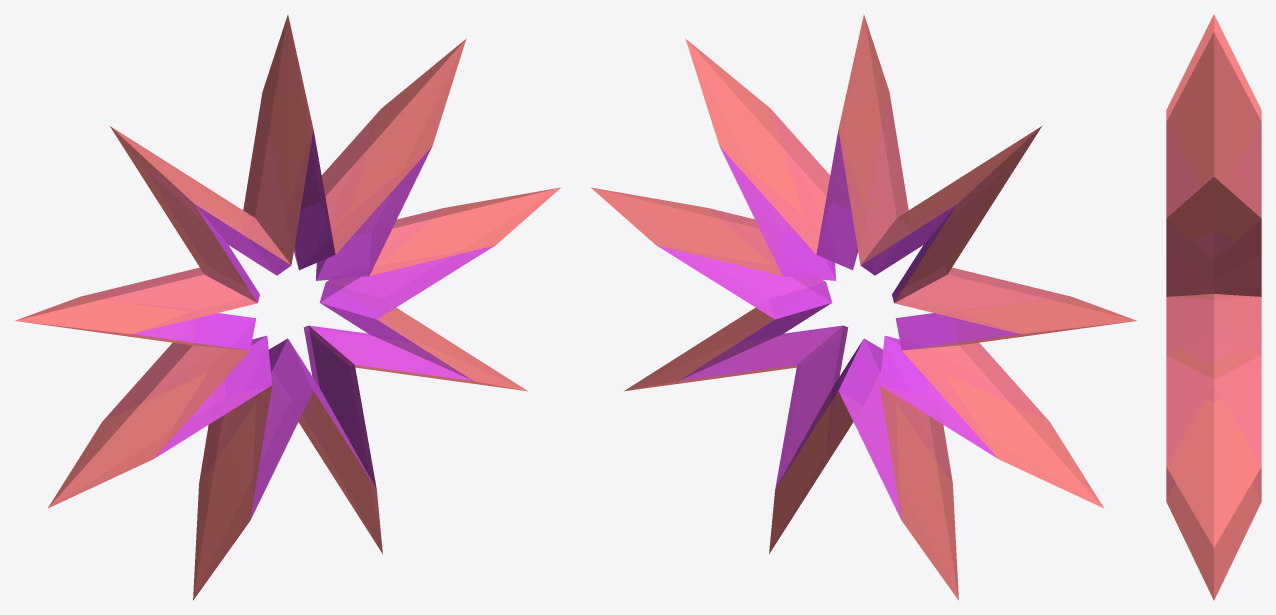
File: Regular9TetragonalStarToroid.obj
3 views of the same model, side by side, from view 1: azimuth 30°, elevation 25°; view 2: azimuth 150°, elevation 25°; view 3: azimuth 270°, elevation 25° (orthographic). The views are drawn at different scales.
Bounding box in the file's own units: 4.32 × 4.25 × 0.7.
